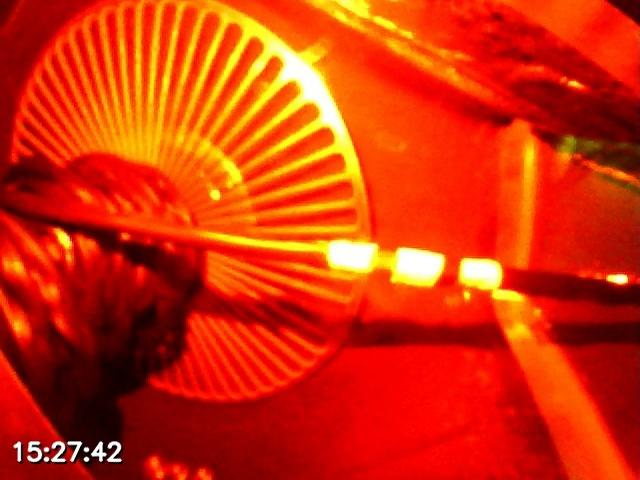white-dots: (326, 239, 502, 290)
